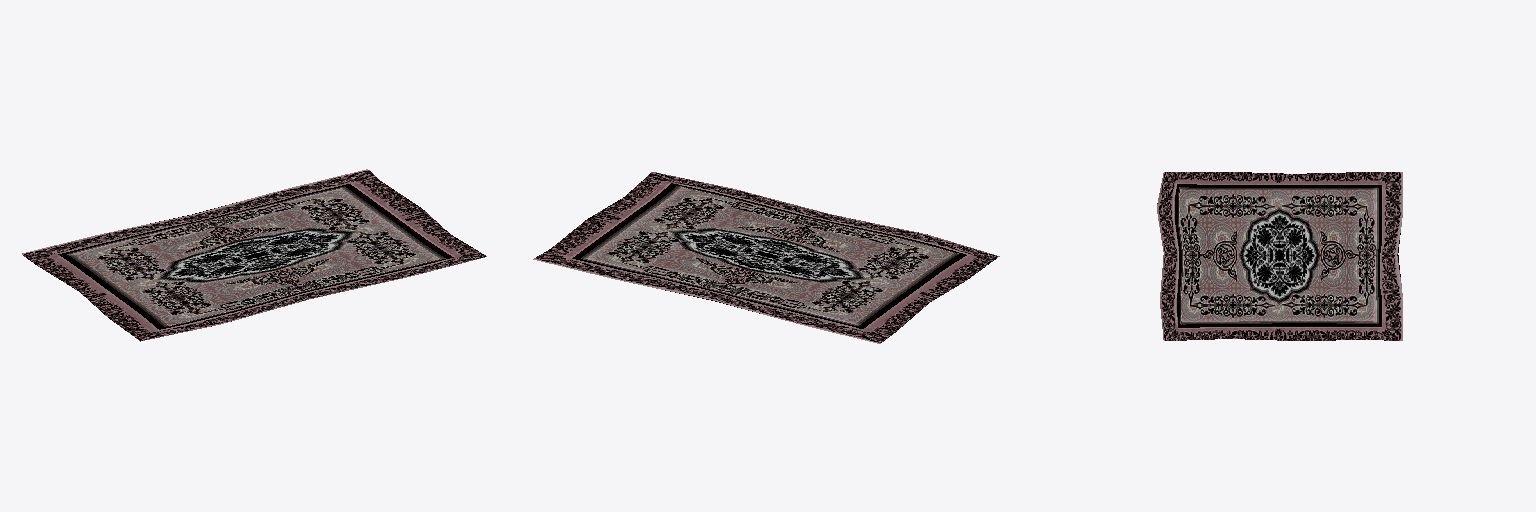
3 views of the same model, side by side, from view 1: azimuth 30°, elevation 25°; view 2: azimuth 150°, elevation 25°; view 3: azimuth 270°, elevation 25° (orthographic).
Visible parts, largest first — view 1: rug1; view 2: rug1; view 3: rug1.
Boxes of the visible parts, x1=… form: rug1: x1=22, y1=169, x2=486, y2=341; rug1: x1=533, y1=172, x2=999, y2=343; rug1: x1=1157, y1=172, x2=1402, y2=340.
Size of the model in its own units: 3.27 by 0.0102 by 2.01.
Materials: 1 (1 with a texture image).